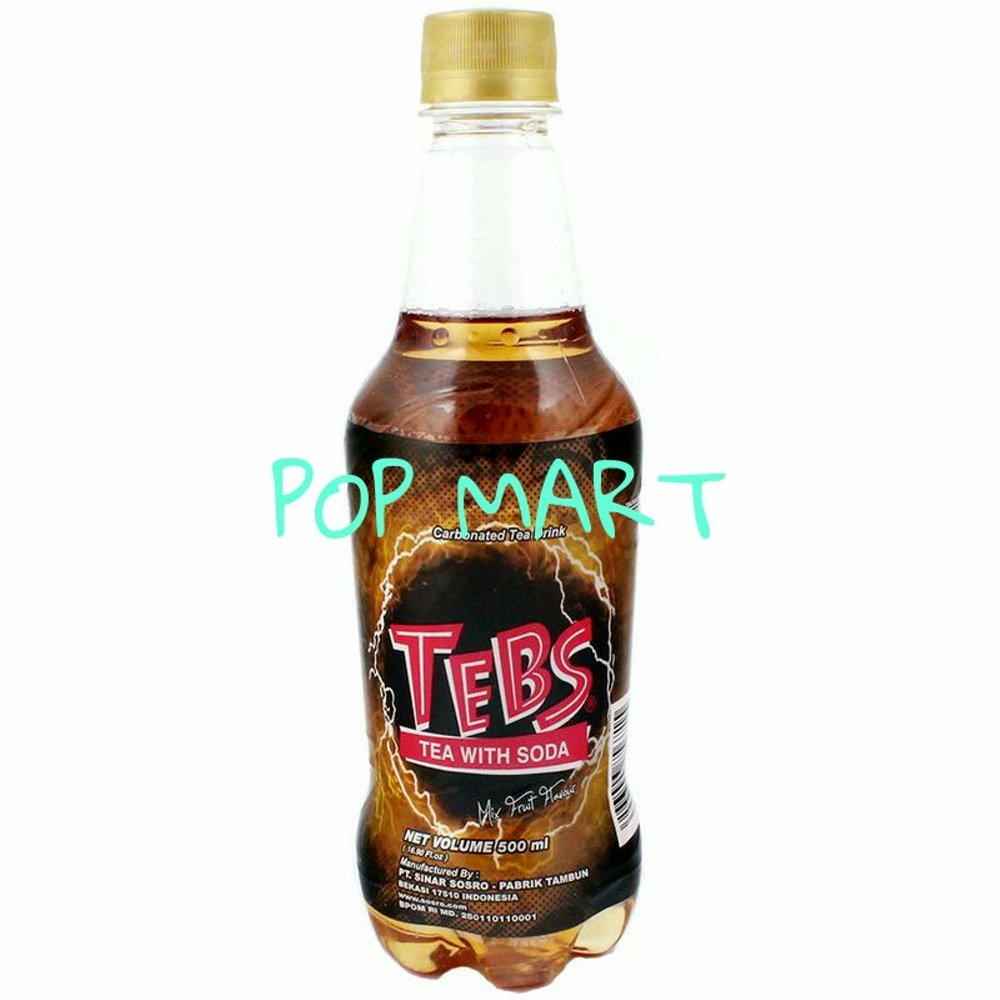botol: (318, 8, 684, 991)
